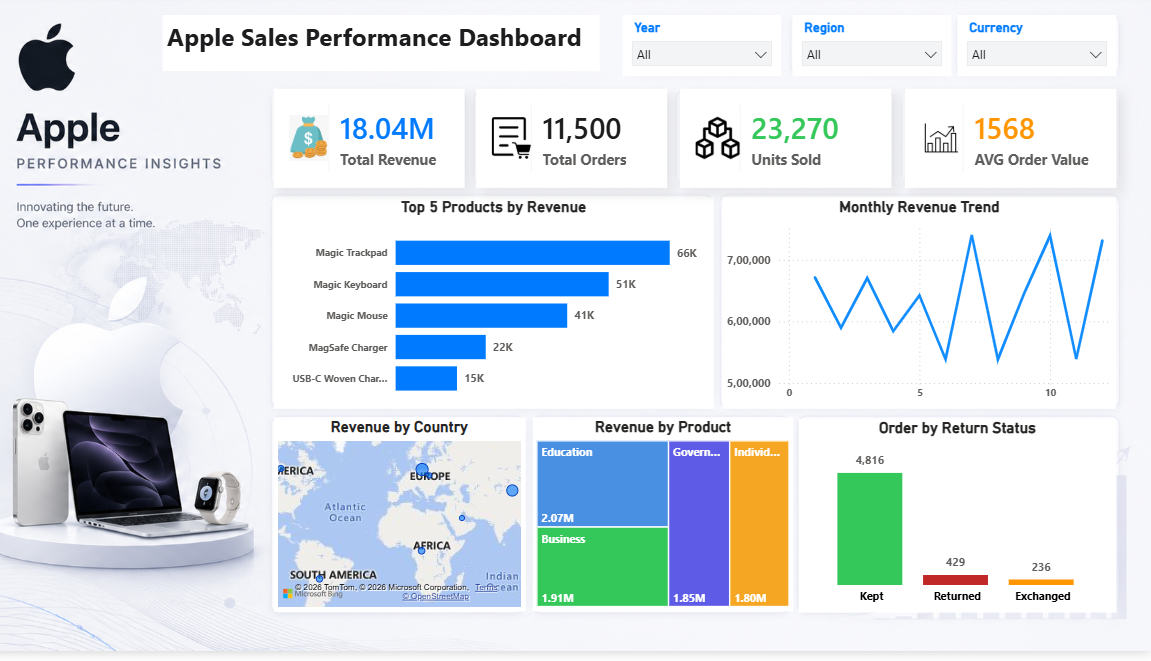

What the dashboard file says about the page in this screenshot:
{"tool":"powerbi","page":{"name":"Page 1","canvas":[1280,720],"ordinal":0},"visuals":[{"type":"slicer","fields":{"Values":["apple_global_sales_dataset.year"]},"box":[699.8,22,174.3,67.2],"z":0},{"type":"barChart","title":"Top 5 Products by Revenue","fields":{"Y":["Measure Table.Total Revenue"],"Category":["apple_global_sales_dataset.product_name"]},"box":[317,222.3,483,231.9],"z":1000},{"type":"cardVisual","fields":{"Data":["Measure Table.Total Revenue"]},"box":[317,102.9,209.9,108.4],"z":2000},{"type":"cardVisual","fields":{"Data":["Measure Table.Total Orders"]},"box":[539.3,102.9,209.9,108.4],"z":3000},{"type":"cardVisual","fields":{"Data":["Measure Table.Units Sold"]},"box":[763,102.9,231.9,108.4],"z":4000},{"type":"cardVisual","fields":{"Data":["Measure Table.AVG Order Value"]},"box":[1010,102.9,231.9,108.4],"z":5000},{"type":"lineChart","title":"Monthly Revenue Trend","fields":{"Y":["Measure Table.Total Revenue"],"Category":["apple_global_sales_dataset.month no."]},"box":[809.6,222.3,432.2,231.9],"z":6000},{"type":"map","title":"Revenue by Country","fields":{"Size":["Measure Table.Units Sold"],"Category":["apple_global_sales_dataset.region"]},"box":[317,463.8,275.8,212.7],"z":7000},{"type":"treemap","title":"Revenue by Product","fields":{"Values":["Measure Table.Total Revenue"],"Group":["apple_global_sales_dataset.customer_segment"]},"box":[601,463.8,286.8,212.7],"z":8000},{"type":"columnChart","title":"Order by Return Status","fields":{"Category":["apple_global_sales_dataset.return_status"],"Y":["Measure Table.Units Sold"]},"box":[893.3,465.2,348.5,212.7],"z":9000},{"type":"slicer","fields":{"Values":["apple_global_sales_dataset.region"]},"box":[886.5,22,174.3,67.2],"z":10000},{"type":"slicer","fields":{"Values":["apple_global_sales_dataset.year","apple_global_sales_dataset.currency"]},"box":[1067.6,22,174.3,67.2],"z":11000},{"type":"textbox","box":[194.9,22,480.3,61.7],"z":12000}]}

Visuals, with their boxes in screenshot pixels (x1, y1, x2, y2), scaled from the page's 1280x720 canvas onto the 1151x661 screenshot:
slicer - apple_global_sales_dataset.year: [629, 20, 786, 82]
"Top 5 Products by Revenue" barChart: [285, 204, 719, 417]
cardVisual - Measure Table.Total Revenue: [285, 94, 474, 194]
cardVisual - Measure Table.Total Orders: [485, 94, 674, 194]
cardVisual - Measure Table.Units Sold: [686, 94, 895, 194]
cardVisual - Measure Table.AVG Order Value: [908, 94, 1117, 194]
"Monthly Revenue Trend" lineChart: [728, 204, 1117, 417]
"Revenue by Country" map: [285, 426, 533, 621]
"Revenue by Product" treemap: [540, 426, 798, 621]
"Order by Return Status" columnChart: [803, 427, 1117, 622]
slicer - apple_global_sales_dataset.region: [797, 20, 954, 82]
slicer - apple_global_sales_dataset.year x apple_global_sales_dataset.currency: [960, 20, 1117, 82]
textbox: [175, 20, 607, 77]
